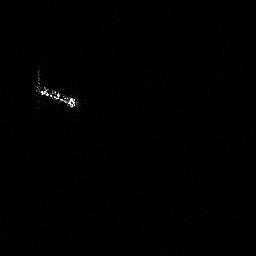ship: (32, 80, 83, 111)
